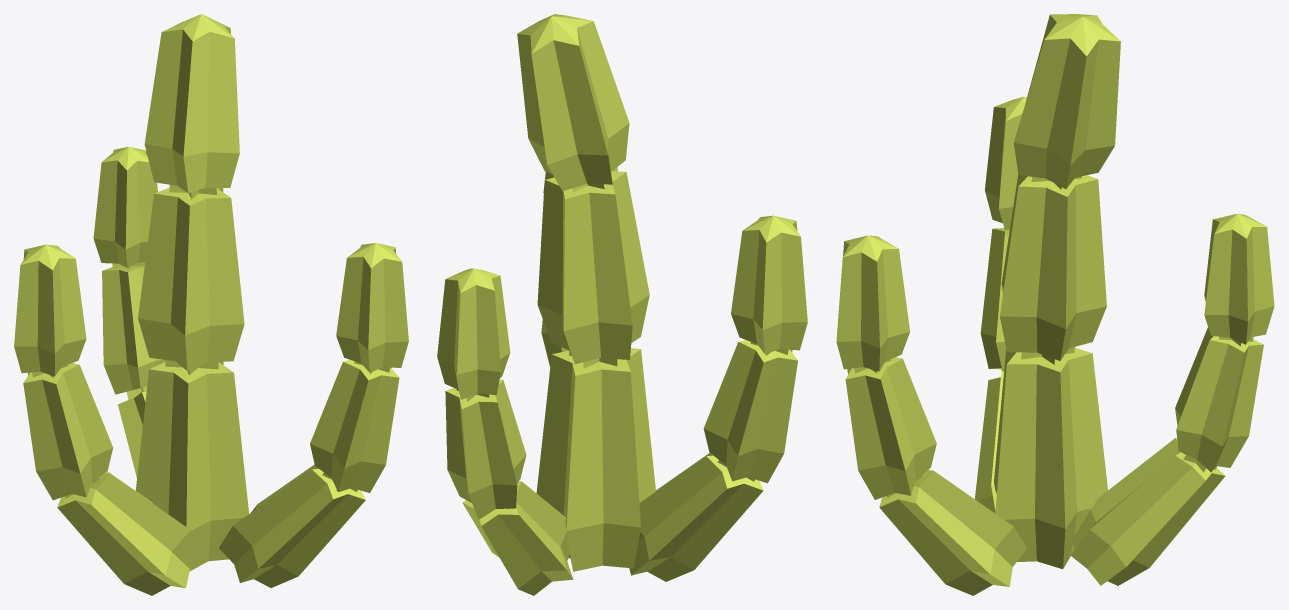
File: dessert_plant_03.fbx
The picture shows the model from 3 angles, left to right: view 1: azimuth 30°, elevation 25°; view 2: azimuth 150°, elevation 25°; view 3: azimuth 270°, elevation 25°; orthographic projection. The views are drawn at different scales.
Parts seen in each view (by area): view 1: dessert_plant_03; view 2: dessert_plant_03; view 3: dessert_plant_03.
Part boxes in pixels (x1=…): dessert_plant_03: x1=14, y1=14, x2=408, y2=595; dessert_plant_03: x1=437, y1=14, x2=807, y2=595; dessert_plant_03: x1=836, y1=14, x2=1274, y2=595.
Bounding box in the file's own units: 130 × 210 × 146.
